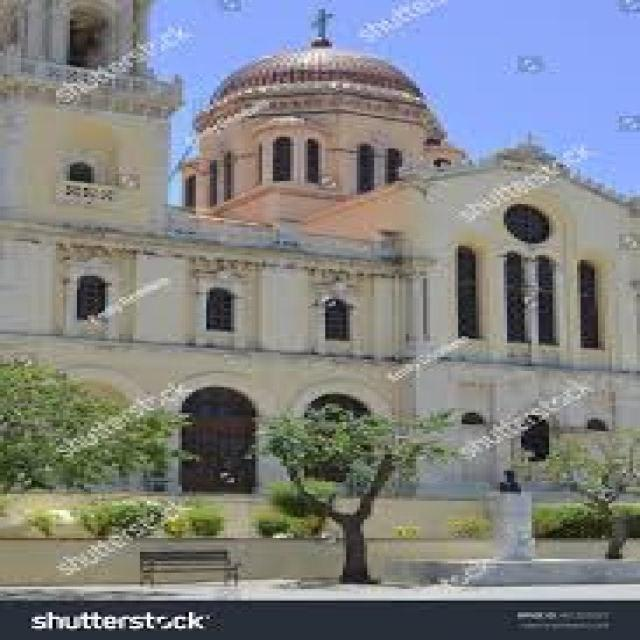Agios Minas: (3, 3, 640, 503)
